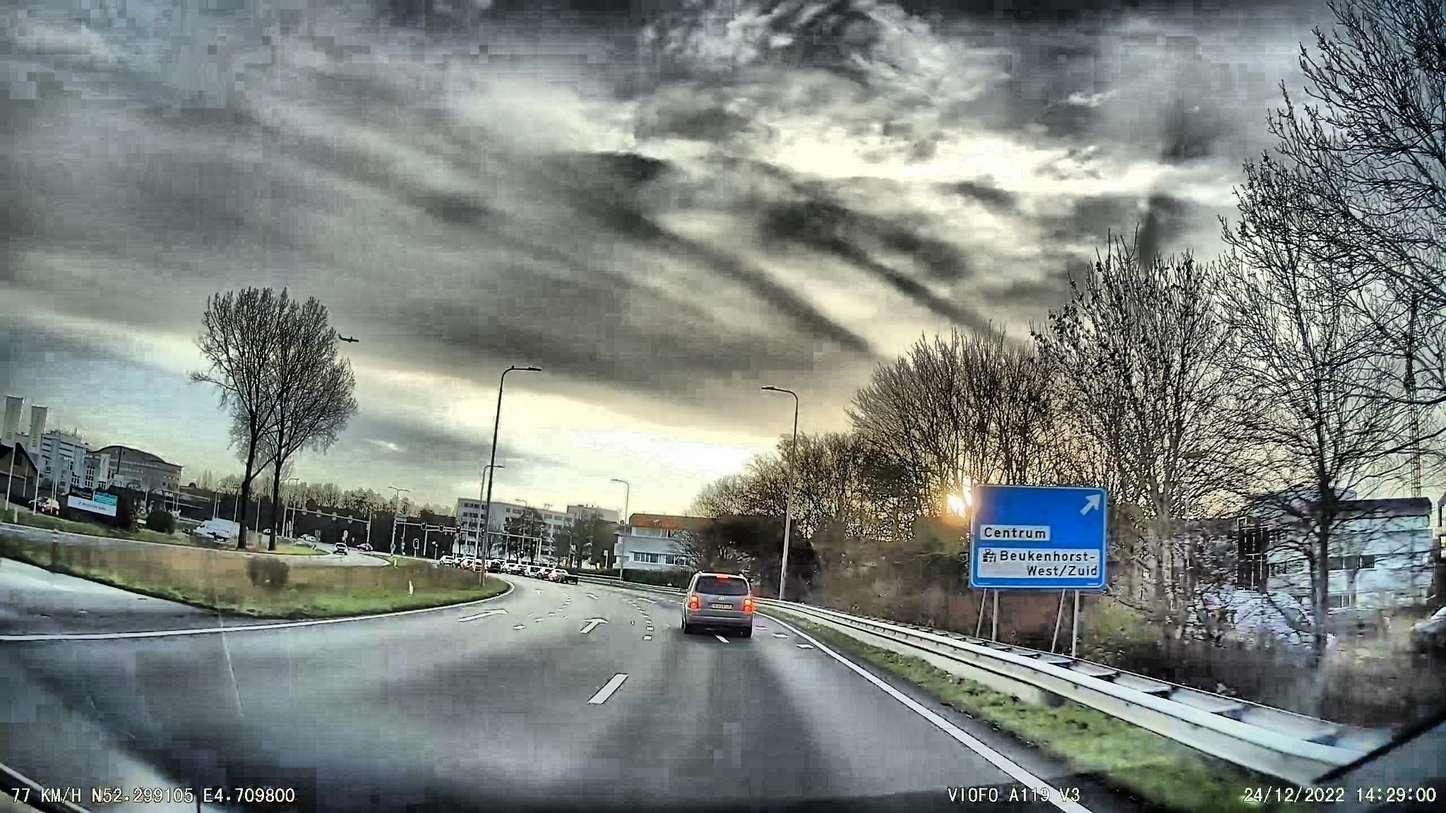Roads: (0, 558, 1097, 813)
